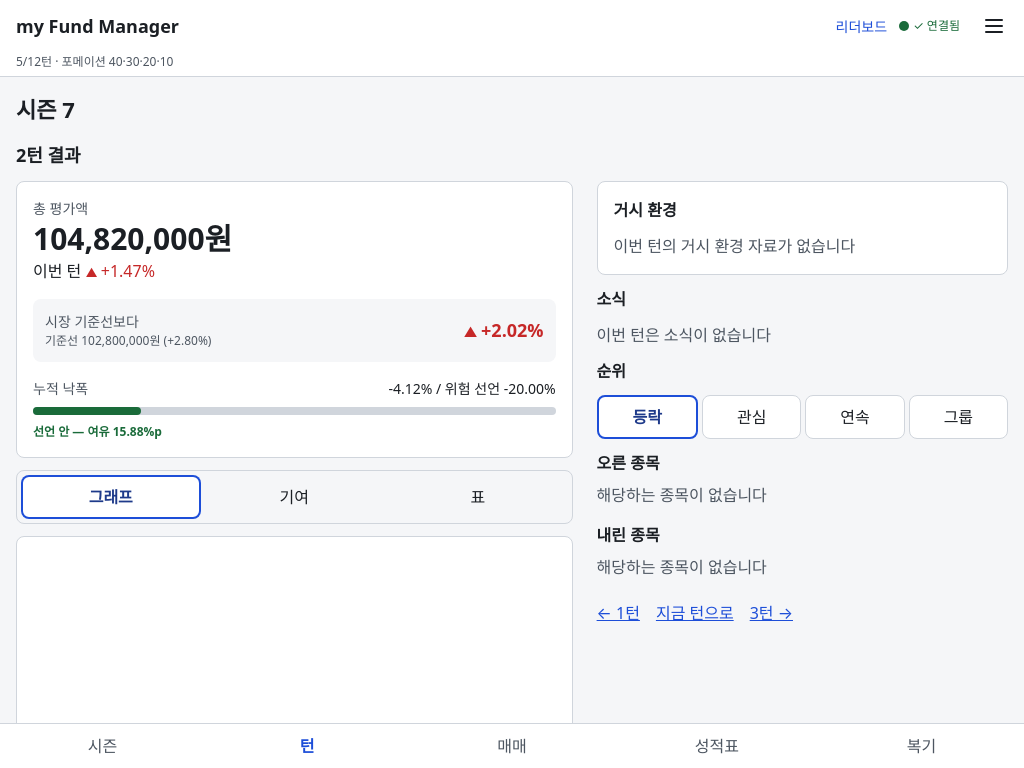
turn tabs › shows a past turn with the same tabs, no action bar and no later turn
The image size is (1024, 768).
Expected: the heading "2턴 결과" is shown, [16,143,81,167]
Expected: the element named "2턴 요약" is shown, [16,181,573,458]
Click the tab "표" at (478, 497), box [388,475,568,519]
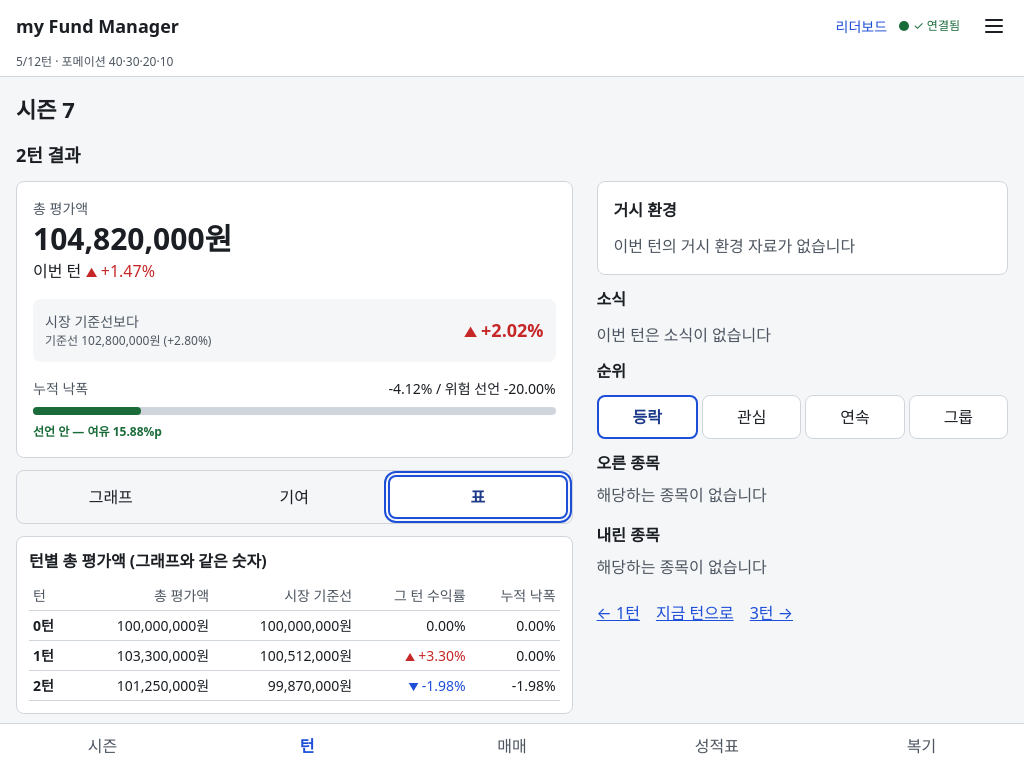
Result: the number of rows is 4 at [29,581,560,610]; [29,610,560,640]; [29,640,560,670]; [29,670,560,700]
